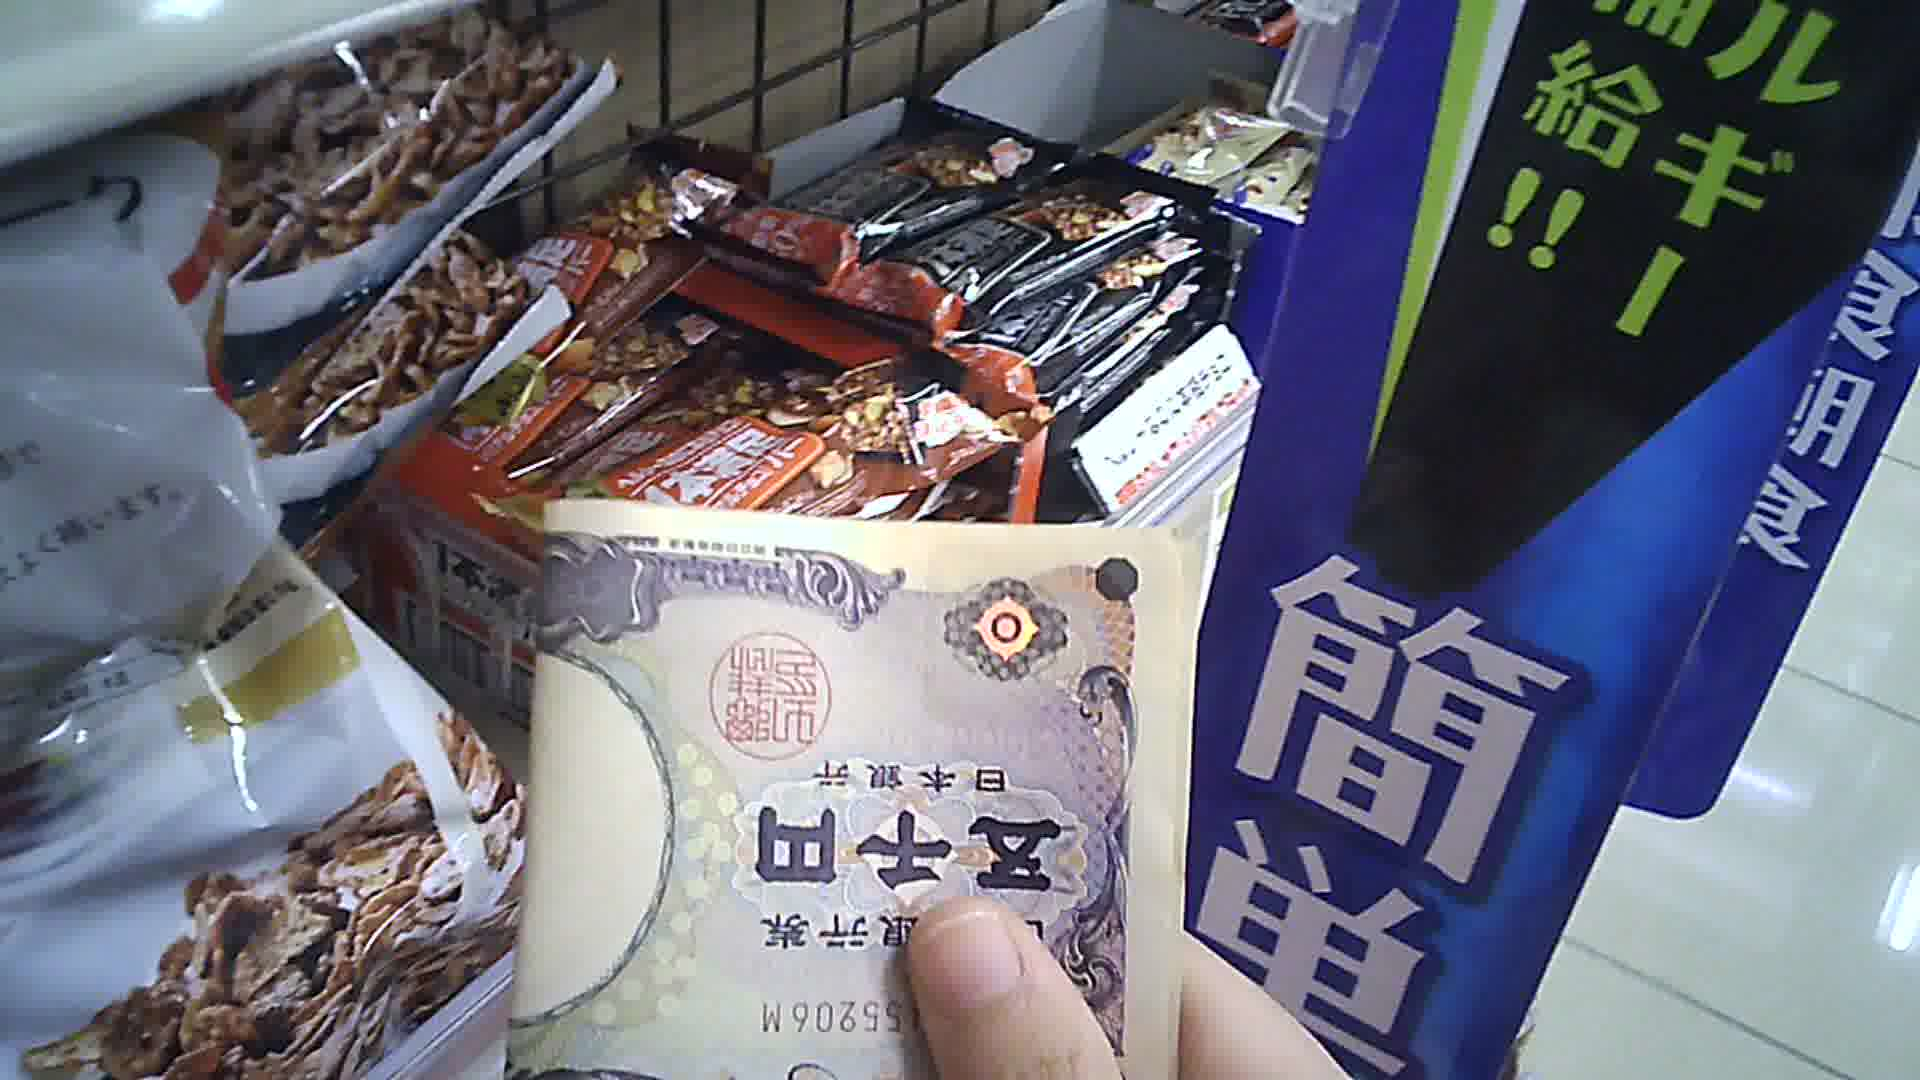5,000 Yen: (509, 487, 1180, 1073)
